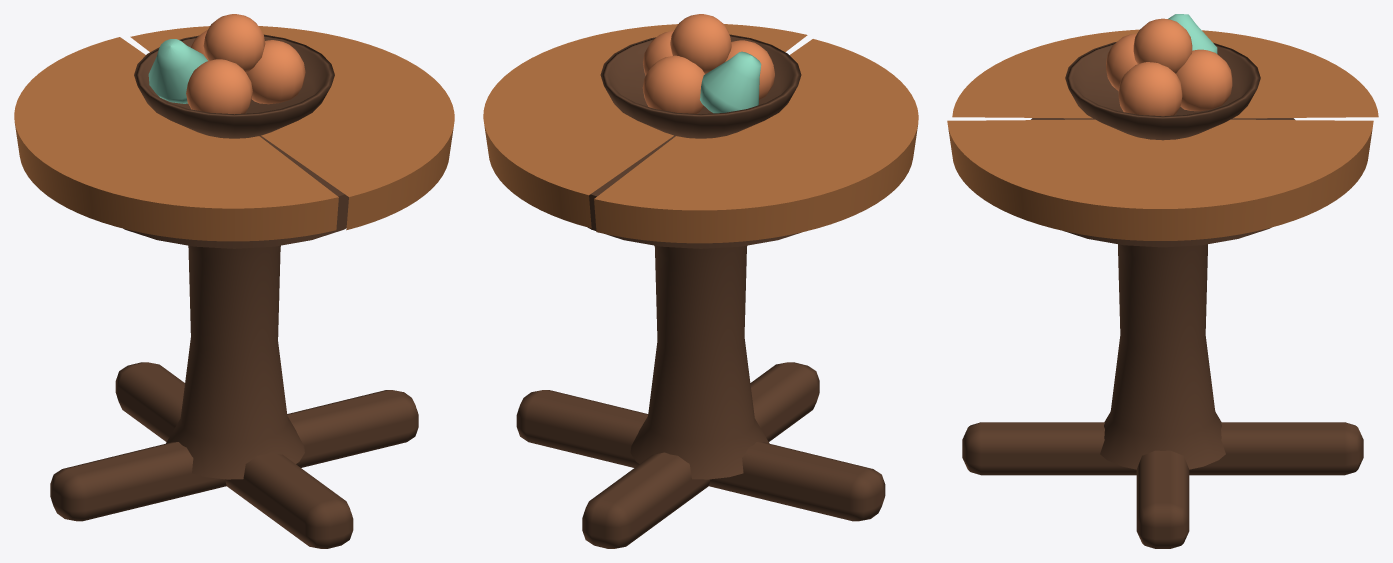
File: GROVE_TABLE.glb
3 renders of one model, left to right at view 1: azimuth 30°, elevation 25°; view 2: azimuth 150°, elevation 25°; view 3: azimuth 270°, elevation 25°, orthographic. The views are drawn at different scales.
Visible parts, largest first — view 1: top, feet, pedestal, apples, bowl, pear, apron; view 2: top, feet, pedestal, bowl, apples, pear, apron; view 3: top, pedestal, feet, apples, bowl, apron, pear.
Part boxes in pixels (<box>): top: <box>14,26,454,241</box>; feet: <box>50,362,418,548</box>; pedestal: <box>166,245,304,479</box>; apples: <box>186,14,305,114</box>; bowl: <box>134,34,334,138</box>; pear: <box>148,39,207,103</box>; apron: <box>123,135,348,248</box>; top: <box>483,24,918,243</box>; feet: <box>516,362,885,548</box>; pedestal: <box>630,245,769,479</box>; bowl: <box>600,34,801,138</box>; apples: <box>642,14,774,113</box>; pear: <box>700,51,761,113</box>; apron: <box>588,135,801,248</box>; top: <box>947,29,1378,240</box>; pedestal: <box>1100,244,1225,469</box>; feet: <box>962,422,1363,548</box>; apples: <box>1106,18,1232,116</box>; bowl: <box>1065,42,1260,140</box>; apron: <box>1031,118,1294,247</box>; pear: <box>1168,14,1217,53</box>.
Size of the model in its own units: 3.4 by 3.96 by 3.44.
